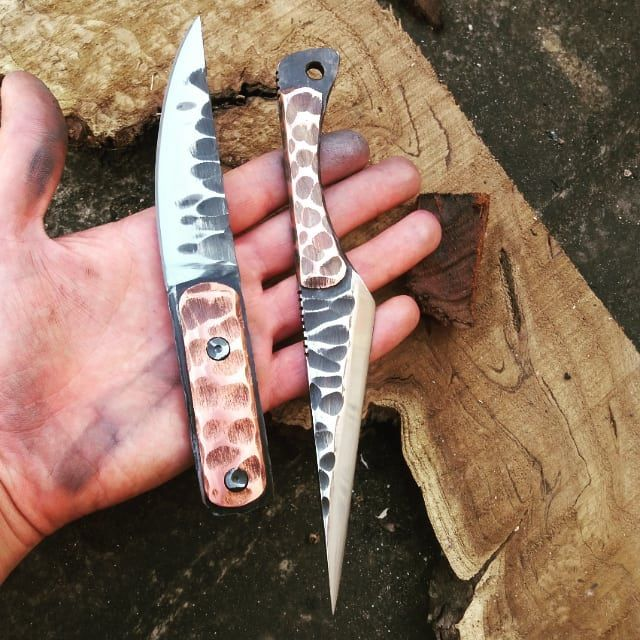knife: (154, 15, 273, 515), (276, 47, 375, 613)
